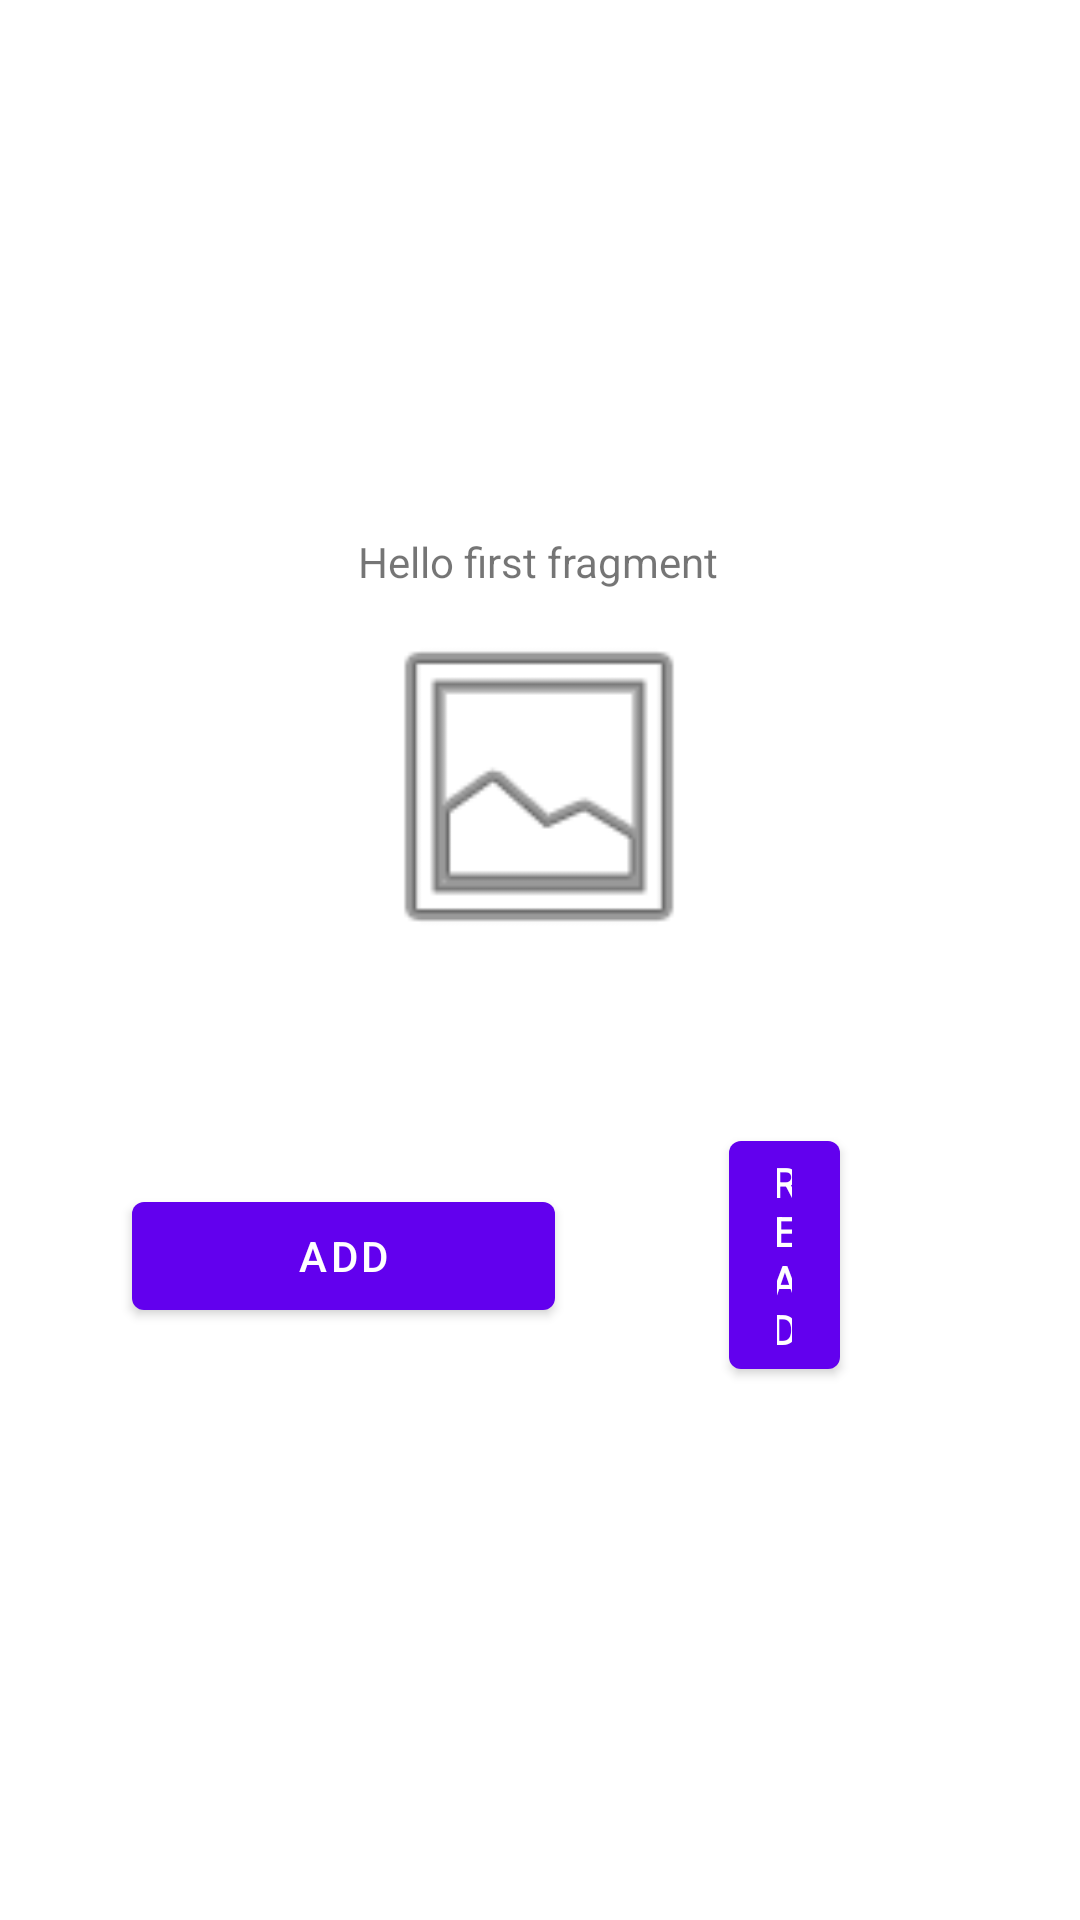

Screen size 1080w x 1920h. Icon name, then its box in pixels as (x1, y1, x2, y2):
gallery: (404, 652, 674, 921)
